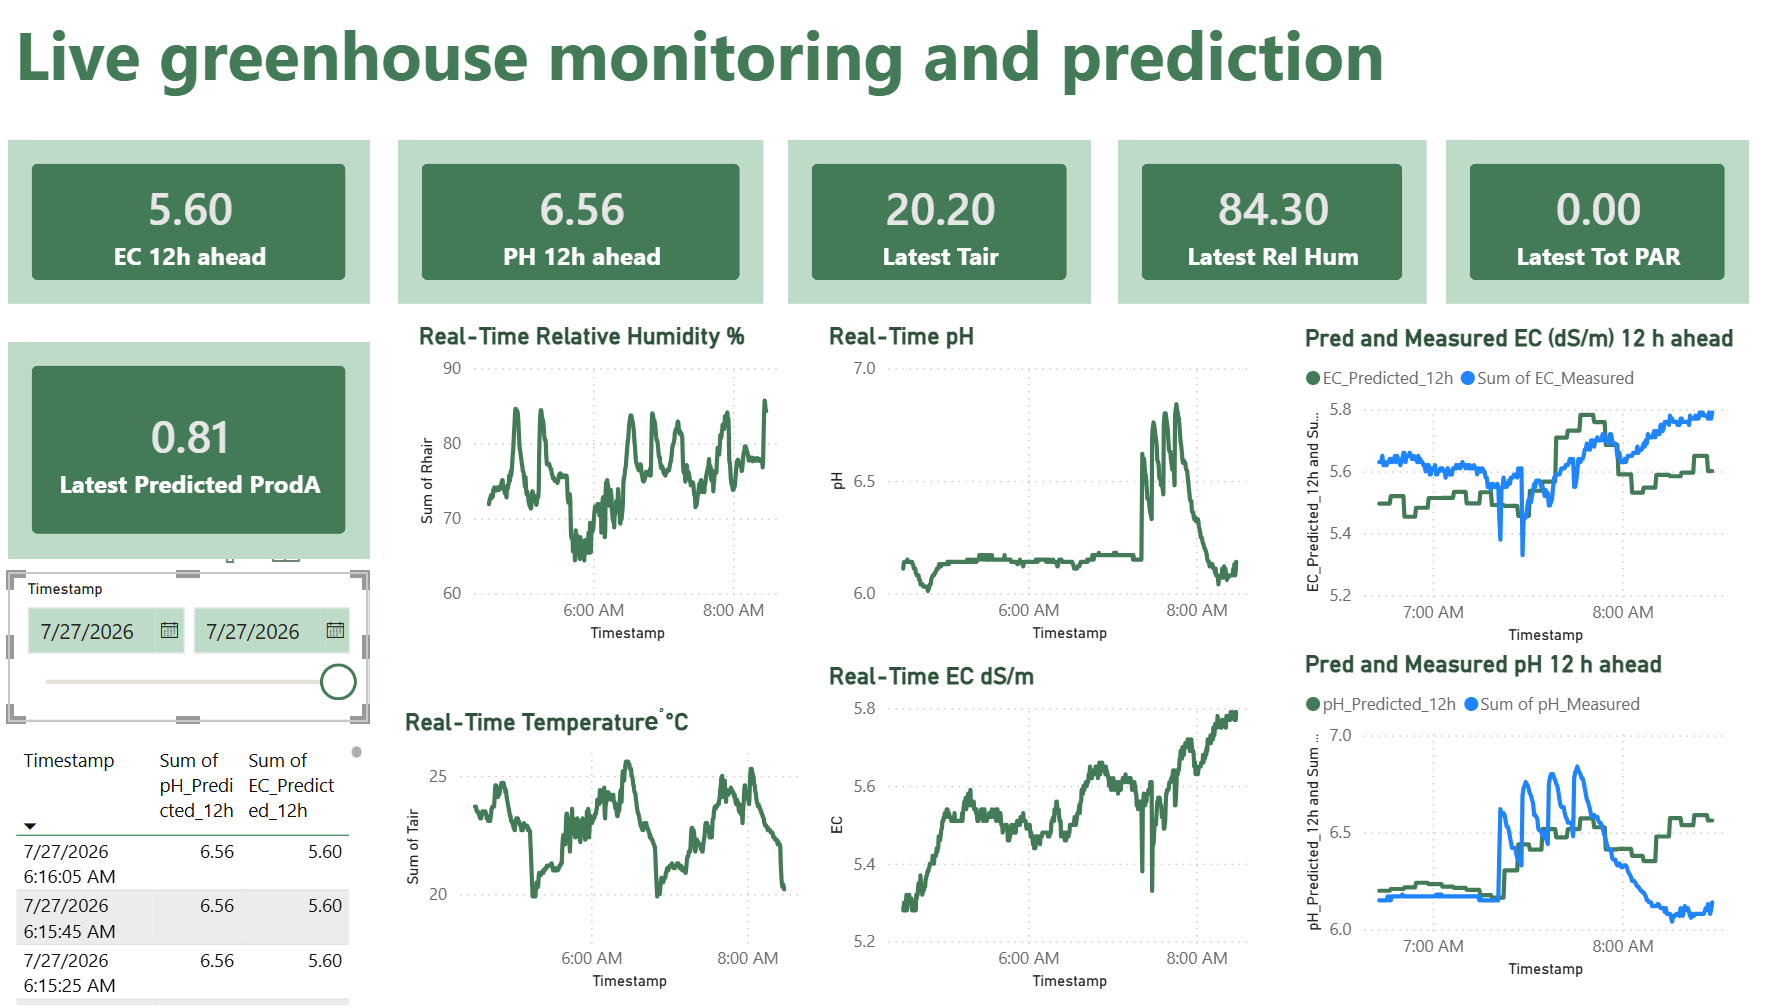

The dashboard page shown, as its layout file describes it:
{"tool":"powerbi","page":{"name":"Page 1","canvas":[1280,720],"ordinal":0},"visuals":[{"type":"textbox","box":[10.8,0,1164.1,78.1],"z":0},{"type":"cardVisual","fields":{"Data":["ThingSpeak_AGC2.Latest Tair"]},"box":[569.3,99.6,216.7,117.1],"z":1000},{"type":"cardVisual","fields":{"Data":["ThingSpeak_AGC2.Latest Rel Hum"]},"box":[804.8,99.6,220.7,117.1],"z":2000},{"type":"cardVisual","fields":{"Data":["EC_pH_Predictions.EC 12h ahead"]},"box":[10.8,99.6,258.4,117.1],"z":3000},{"type":"cardVisual","fields":{"Data":["EC_pH_Predictions.PH 12h ahead"]},"box":[289.3,99.6,261.1,117.1],"z":4000},{"type":"cardVisual","fields":{"Data":["ThingSpeak_AGC2.Latest Tot PAR"]},"box":[1039,99.6,216.7,117.1],"z":5000},{"type":"lineChart","title":"Real-Time Temperatureْْ °C","fields":{"Y":["Sum(ThingSpeak_AGC2.Tair)"],"Category":["ThingSpeak_AGC2.Timestamp"]},"box":[290,504.3,302.9,207.1],"z":6000},{"type":"lineChart","title":"Real-Time EC dS/m","fields":{"Y":["Sum(ThingSpeak_AGC2.EC_drain_PC)"],"Category":["ThingSpeak_AGC2.Timestamp"]},"box":[592.9,472.9,322.9,238.6],"z":7000},{"type":"lineChart","title":"Real-Time pH","fields":{"Y":["Sum(ThingSpeak_AGC2.pH_drain_PC)"],"Category":["ThingSpeak_AGC2.Timestamp"]},"box":[592.9,230,322.9,232.9],"z":8000},{"type":"slicer","fields":{"Values":["ThingSpeak_AGC2.Timestamp"]},"box":[10.8,356.6,258.4,106.3],"z":9000},{"type":"cardVisual","fields":{"Data":["ProdA_Predictions.Latest Predicted ProdA"]},"box":[10.8,205.9,258.4,154.8],"z":10000},{"type":"tableEx","fields":{"Values":["ThingSpeak_AGC2.Timestamp","Sum(EC_pH_Predictions.pH_Predicted_12h)","Sum(EC_pH_Predictions.EC_Predicted_12h)"]},"box":[10.8,472.4,259.7,251.7],"z":11000},{"type":"lineChart","title":"Real-Time Relative Humidity %","fields":{"Y":["Sum(ThingSpeak_AGC2.Rhair)"],"Category":["ThingSpeak_AGC2.ThingSpeakTimestamp"]},"box":[300,230,280,232.9],"z":12000},{"type":"lineChart","title":"Pred and Measured pH 12 h ahead","fields":{"Category":["EC_pH_Predictions.ThingSpeakTimestamp"],"Y":["Sum(EC_pH_Predictions.pH_Predicted_12h)","Sum(EC_pH_Predictions.pH_Measured)"]},"box":[932.9,464.3,322.9,238.6],"z":13000},{"type":"lineChart","title":"Pred and Measured EC (dS/m) 12 h ahead ","fields":{"Category":["EC_pH_Predictions.ThingSpeakTimestamp"],"Y":["Sum(EC_pH_Predictions.EC_Predicted_12h)","Sum(EC_pH_Predictions.EC_Measured)"]},"box":[932.9,231.4,322.9,232.9],"z":14000}]}

Visuals, with their boxes in screenshot pixels (x1, y1, x2, y2), scaled from the page's 1280x720 canvas onto the 1773x1006 screenshot:
textbox: 15/0/1627/109
cardVisual - ThingSpeak_AGC2.Latest Tair: 789/139/1089/303
cardVisual - ThingSpeak_AGC2.Latest Rel Hum: 1115/139/1420/303
cardVisual - EC_pH_Predictions.EC 12h ahead: 15/139/373/303
cardVisual - EC_pH_Predictions.PH 12h ahead: 401/139/762/303
cardVisual - ThingSpeak_AGC2.Latest Tot PAR: 1439/139/1739/303
"Real-Time Temperatureْْ °C" lineChart: 402/705/821/994
"Real-Time EC dS/m" lineChart: 821/661/1269/994
"Real-Time pH" lineChart: 821/321/1269/647
slicer - ThingSpeak_AGC2.Timestamp: 15/498/373/647
cardVisual - ProdA_Predictions.Latest Predicted ProdA: 15/288/373/504
tableEx - ThingSpeak_AGC2.Timestamp x Sum(EC_pH_Predictions.pH_Predicted_12h): 15/660/375/1005
"Real-Time Relative Humidity %" lineChart: 416/321/803/647
"Pred and Measured pH 12 h ahead" lineChart: 1292/649/1739/982
"Pred and Measured EC (dS/m) 12 h ahead " lineChart: 1292/323/1739/649
